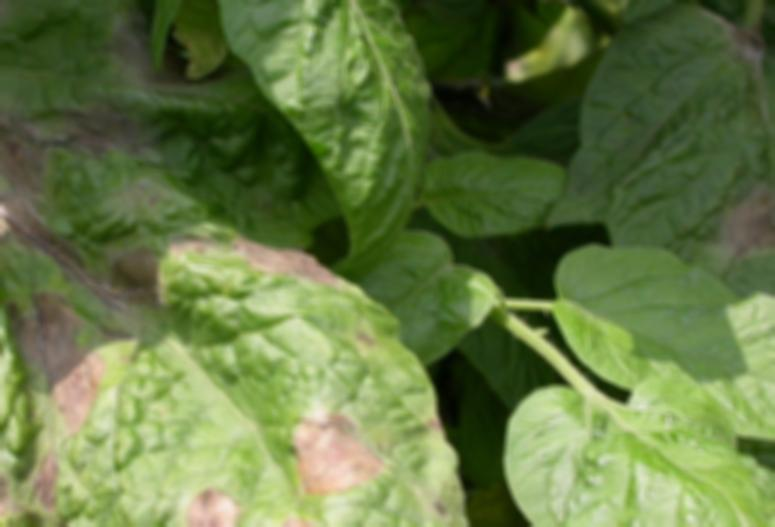Tomato leaf late blight: (0, 58, 490, 527), (564, 0, 775, 306)
